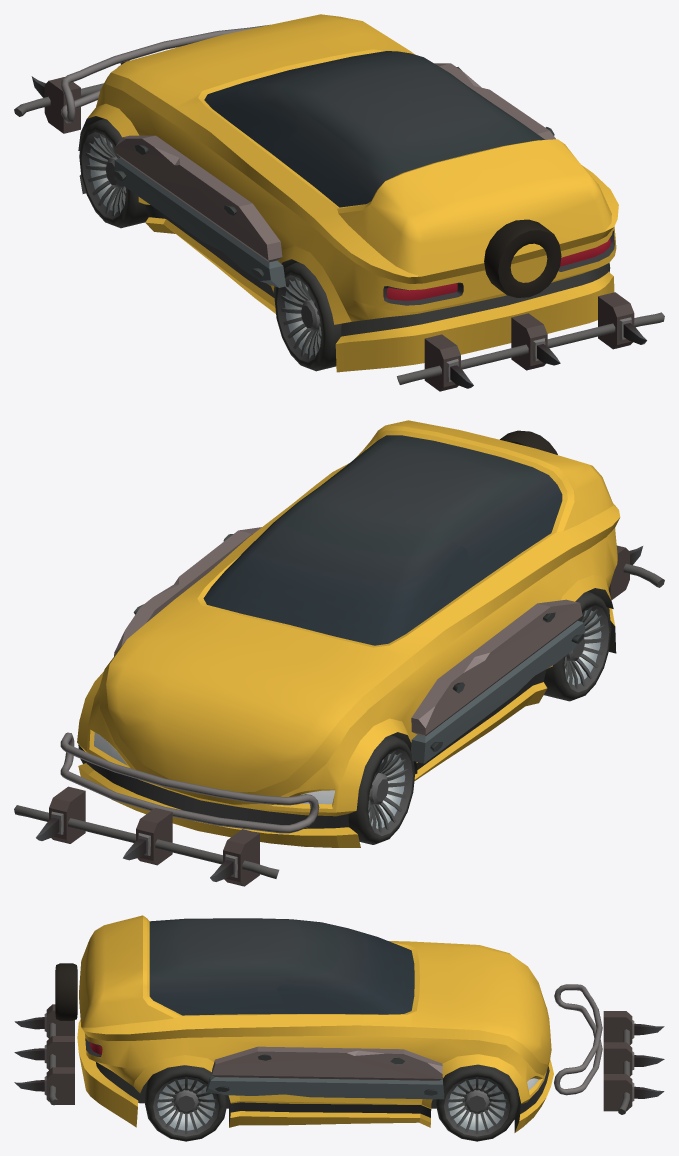
Rendered from car_golden.glb.
The picture shows the model from 3 angles, top to bottom: view 1: azimuth 30°, elevation 25°; view 2: azimuth 150°, elevation 25°; view 3: azimuth 270°, elevation 25°; orthographic projection. The views are drawn at different scales.
Parts seen in each view (by area): view 1: body_mesh, armor_1_mesh, armor_2_mesh, armor_3_mesh, wheel_RL_mesh, wheel_FL_mesh; view 2: body_mesh, armor_1_mesh, armor_3_mesh, armor_2_mesh, wheel_FL_mesh, wheel_RL_mesh; view 3: body_mesh, armor_1_mesh, armor_2_mesh, armor_3_mesh, wheel_FR_mesh, wheel_RR_mesh.
Part boxes in pixels (box(x1,y1,x2,y2)): body_mesh: box(78, 14, 618, 372); armor_1_mesh: box(114, 63, 555, 287); armor_2_mesh: box(61, 25, 664, 391); armor_3_mesh: box(14, 60, 561, 297); wheel_RL_mesh: box(274, 262, 341, 371); wheel_FL_mesh: box(79, 119, 148, 228); body_mesh: box(77, 420, 620, 847); armor_1_mesh: box(114, 527, 585, 763); armor_3_mesh: box(14, 430, 557, 886); armor_2_mesh: box(60, 545, 664, 833); wheel_FL_mesh: box(348, 735, 415, 844); wheel_RL_mesh: box(544, 591, 611, 701); body_mesh: box(77, 915, 553, 1132); armor_1_mesh: box(206, 1046, 444, 1099); armor_2_mesh: box(14, 984, 602, 1105); armor_3_mesh: box(55, 963, 664, 1114); wheel_FR_mesh: box(436, 1064, 518, 1141); wheel_RR_mesh: box(145, 1065, 227, 1141).
Bounding box in the file's own units: 2.58 × 1.58 × 6.01.
3 materials, 2 textured.
